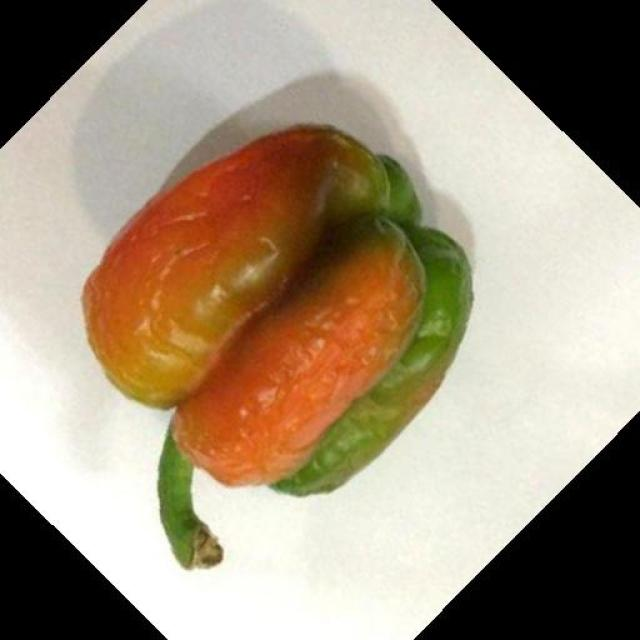Stale_Capsicum: (81, 119, 492, 534)
